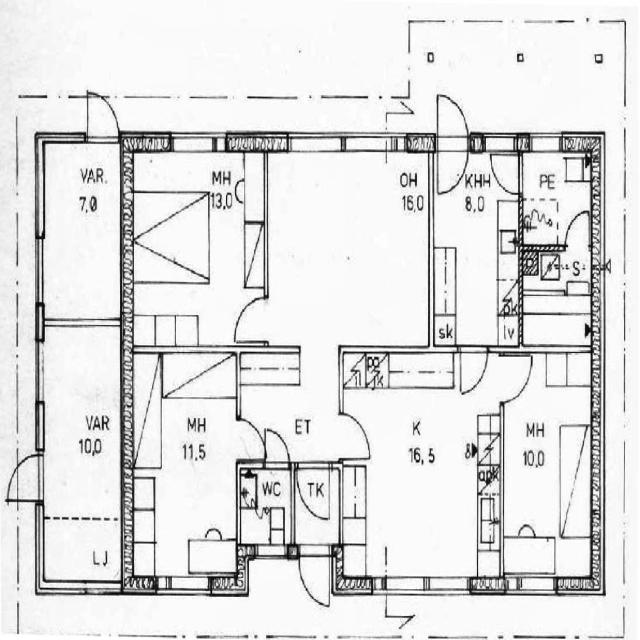door: (458, 345, 532, 398), (434, 86, 470, 187), (294, 462, 338, 528), (297, 546, 333, 608), (434, 135, 468, 197), (336, 407, 374, 461), (498, 351, 534, 406), (233, 292, 270, 344), (85, 90, 121, 143), (456, 342, 490, 396), (489, 150, 522, 199), (235, 414, 267, 462), (263, 424, 292, 468), (563, 209, 592, 249)
window: (344, 130, 408, 158), (30, 334, 48, 429), (31, 232, 48, 308), (288, 131, 344, 154), (505, 573, 557, 597), (170, 132, 224, 154), (425, 575, 471, 598), (529, 128, 563, 150), (82, 580, 117, 598), (49, 130, 87, 146), (254, 547, 286, 561)
zone: (340, 347, 500, 596), (267, 148, 432, 349), (127, 348, 240, 592), (124, 148, 265, 342), (501, 348, 596, 586), (40, 320, 123, 585), (436, 152, 518, 346), (39, 141, 123, 322), (522, 148, 592, 345), (238, 464, 293, 551), (10, 451, 45, 502)
